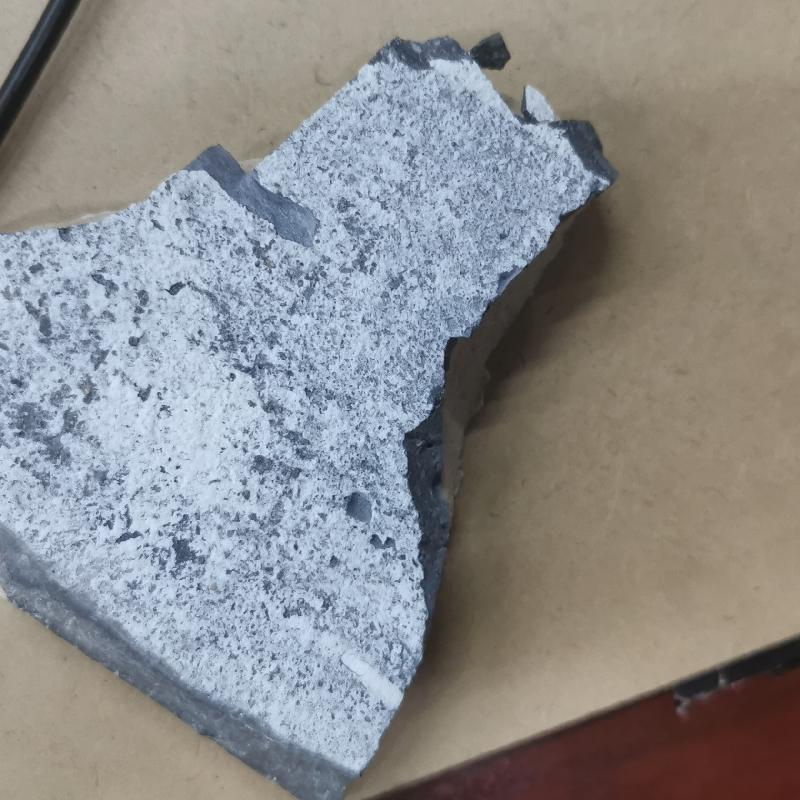tile: (3, 29, 618, 799)
